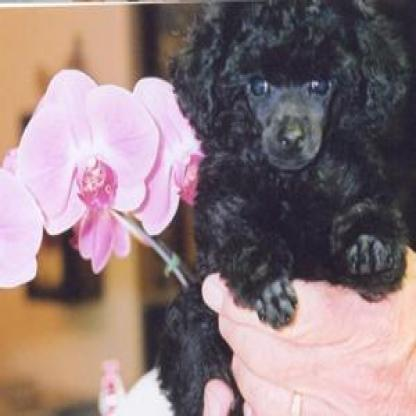toy_poodle: (139, 0, 413, 413)
